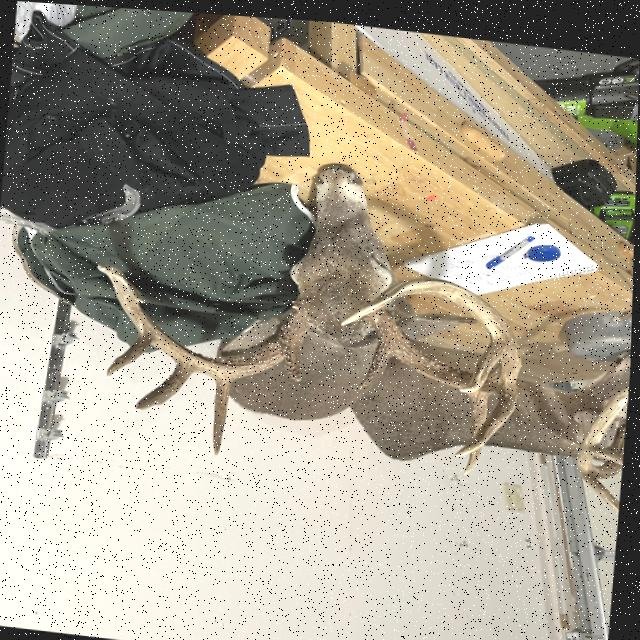E1: (443, 291, 474, 303)
L-F: (353, 270, 494, 433)
L-G1: (353, 404, 421, 421)
L-G2: (247, 345, 352, 366)
L-G3: (299, 288, 369, 336)
L-G4: (341, 269, 406, 308)
R-G1: (351, 459, 420, 486)
R-G3: (271, 527, 375, 580)
R-G4: (357, 536, 433, 579)
